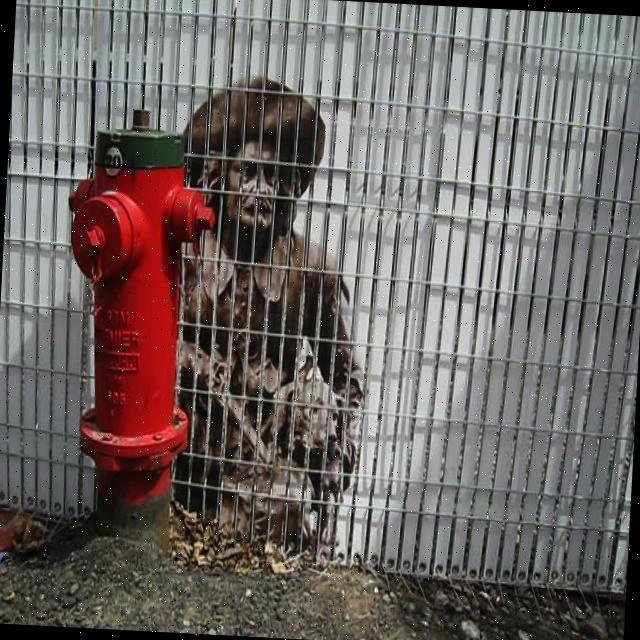fire_hydrant: (48, 102, 218, 555)
